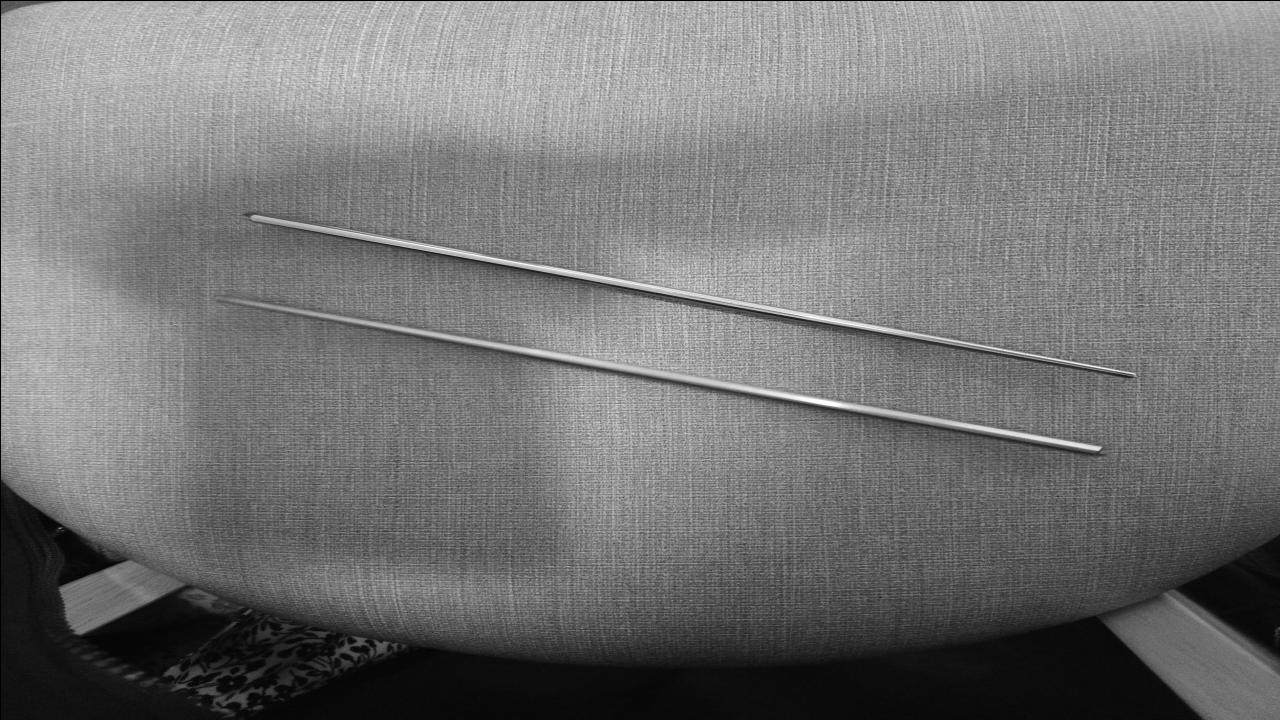chopstick: (235, 206, 1146, 382), (203, 289, 1113, 461)
